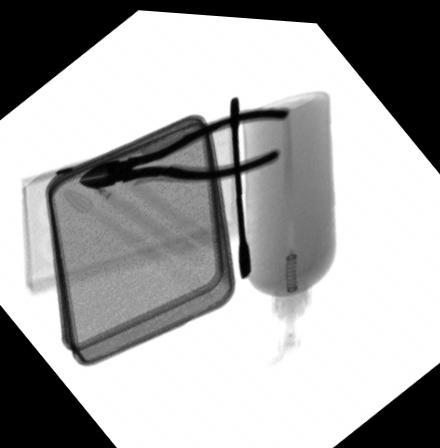Pliers: (75, 103, 291, 190)
Wrench: (226, 88, 253, 273)
